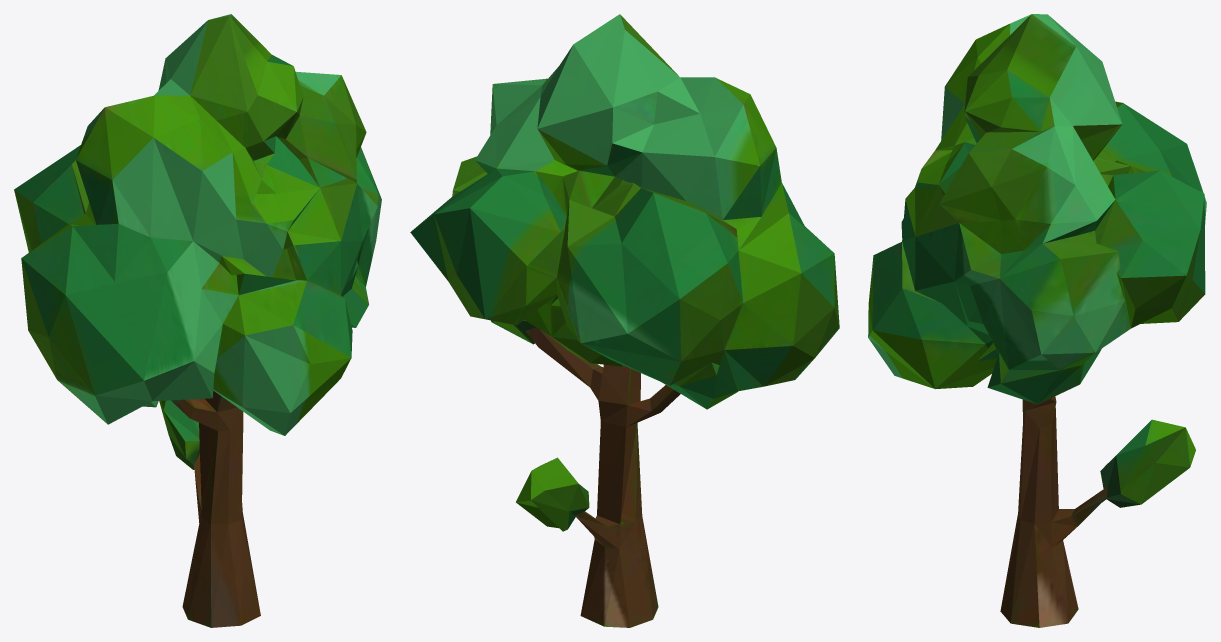
The model's file is tree_04.glb.
3 views of the same model, side by side, from view 1: azimuth 30°, elevation 25°; view 2: azimuth 150°, elevation 25°; view 3: azimuth 270°, elevation 25° (orthographic).
Visible parts, largest first — view 1: _4_tree__4_tree_0; view 2: _4_tree__4_tree_0; view 3: _4_tree__4_tree_0.
Part boxes in pixels (x1,y1,x2,y2): _4_tree__4_tree_0: (14,14,381,627); _4_tree__4_tree_0: (410,14,839,627); _4_tree__4_tree_0: (868,14,1206,627).
Size of the model in its own units: 6.76 by 11 by 5.64.
Materials: 1 (1 with a texture image).
